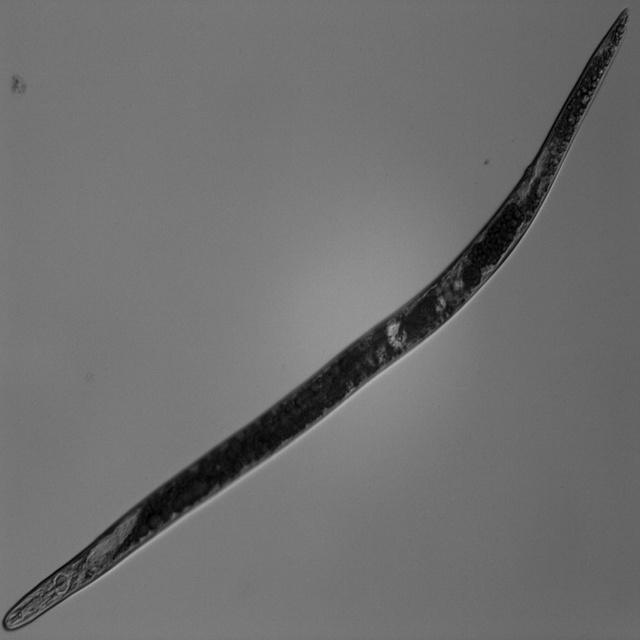Pratylenchus: (0, 3, 632, 630)
